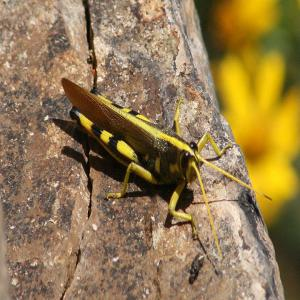locust: (63, 37, 255, 254)
